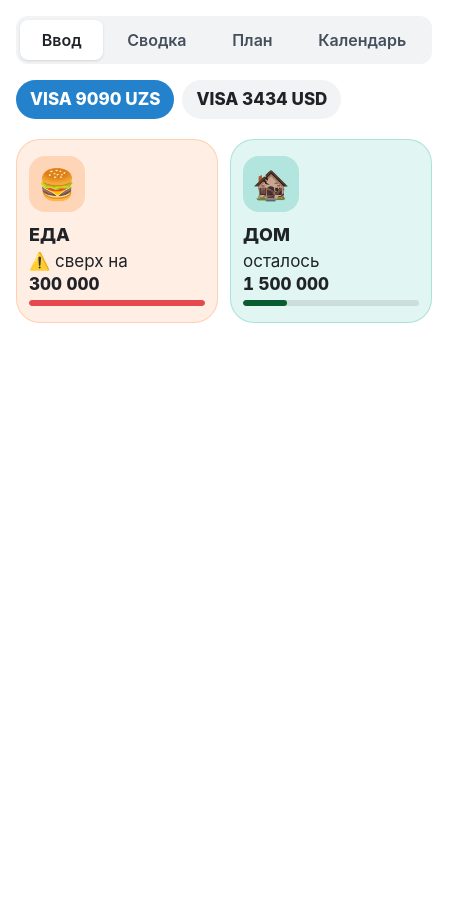
App › switches to the calendar
Click the tab "Календарь".
click(362, 40)  # box x1=296 y1=20 x2=428 y2=60
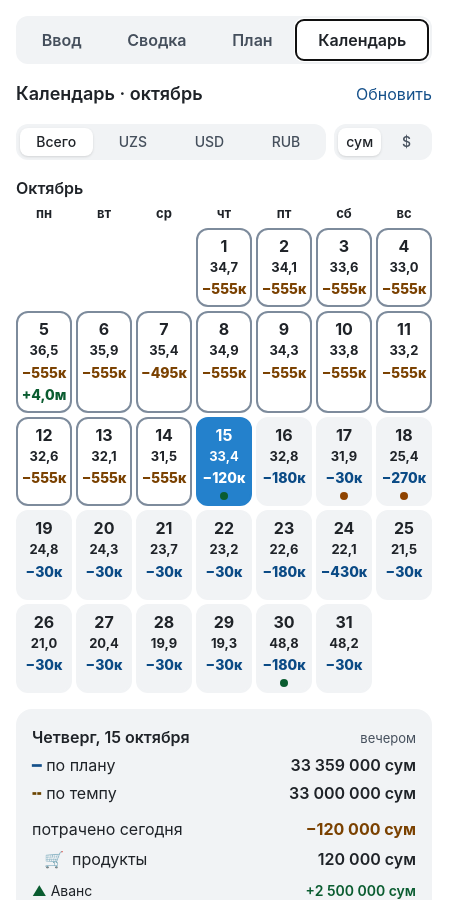
Check: the heading "Октябрь" is shown, box x1=16 y1=178 x2=83 y2=198
